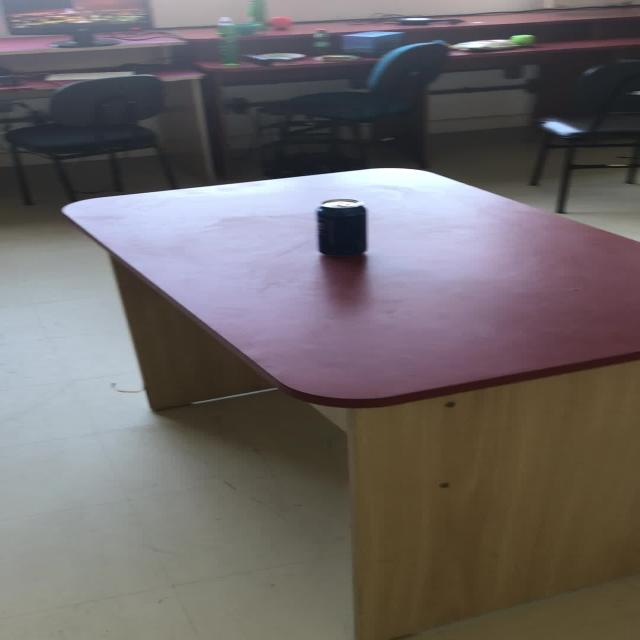tonic: (314, 198, 366, 255), (215, 16, 239, 65), (310, 27, 330, 55)
